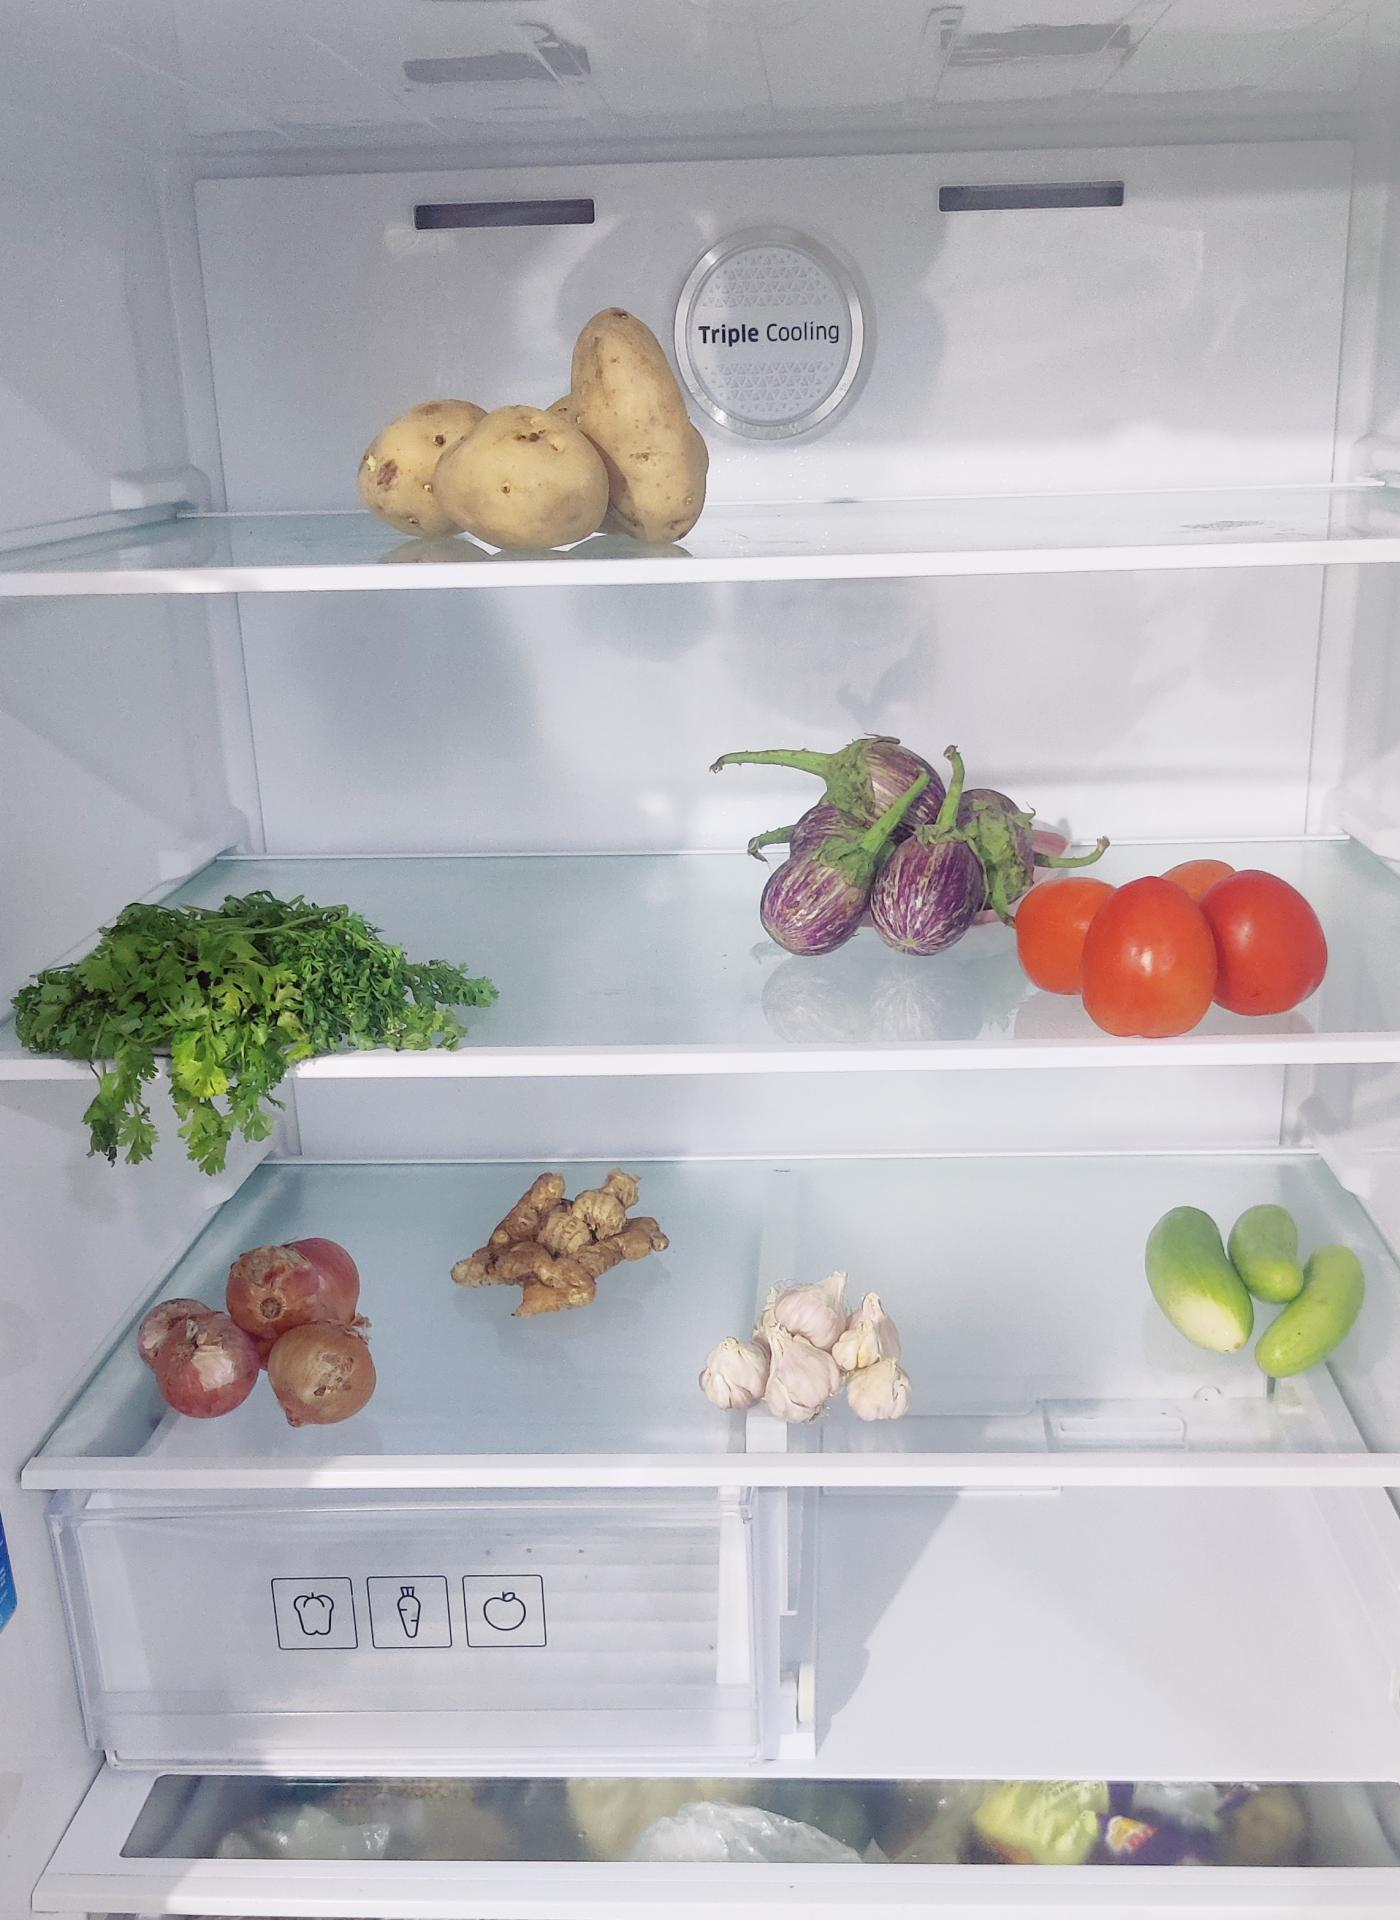brinjal: (760, 741, 1059, 957)
coriander: (21, 899, 485, 1103)
cucumber: (1148, 1197, 1372, 1377)
garlic: (702, 1266, 908, 1424)
ginger: (458, 1170, 672, 1321)
onion: (140, 1233, 374, 1430)
potato: (358, 304, 716, 541)
tomato: (1012, 850, 1331, 1030)
